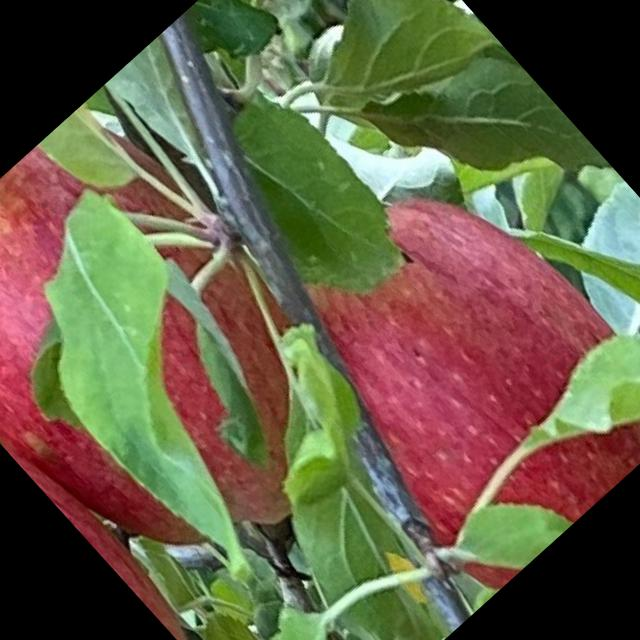Apples: (0, 90, 394, 626), (247, 146, 639, 598), (0, 386, 266, 639)
